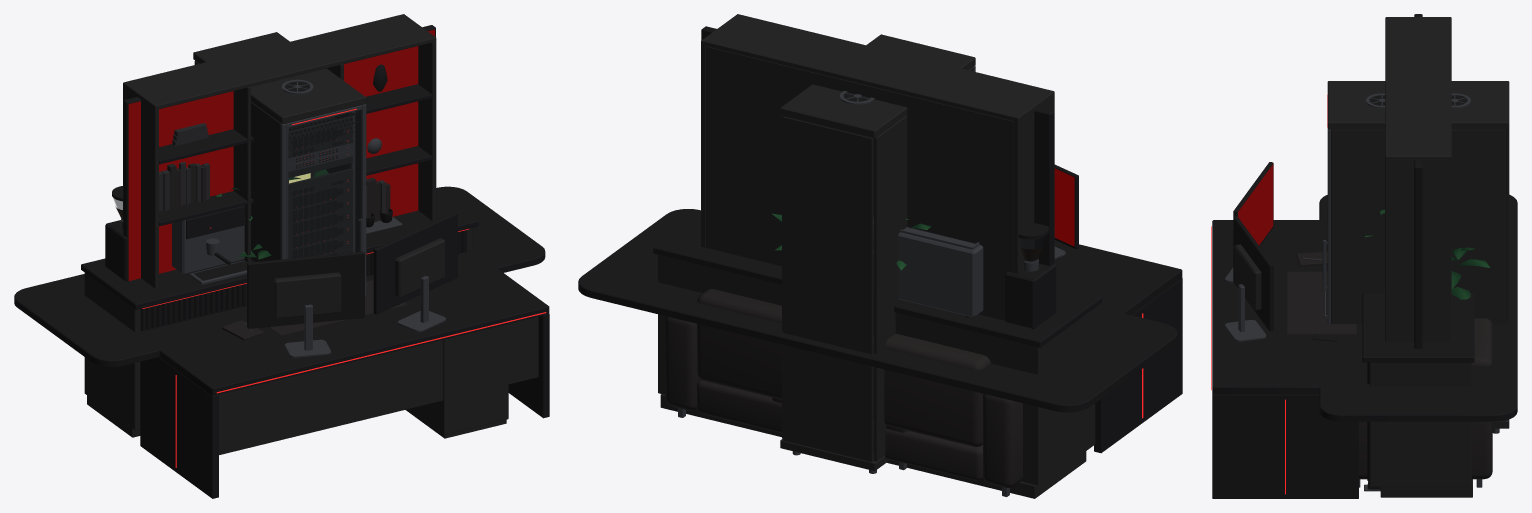
File: props.glb
3 renders of one model, left to right at view 1: azimuth 30°, elevation 25°; view 2: azimuth 150°, elevation 25°; view 3: azimuth 270°, elevation 25°, orthographic. The views are drawn at different scales.
Visible parts, largest first — view 1: exec_desk__black_gloss, exec_desk__black_matte, exec_shelf__black_matte, server_rack__black_matte, wall_screen__screen, meeting_table__black_gloss, coffee_bar__black_gloss, server_rack__glass_dark, exec_shelf__black_gloss, coffee_bar__black_matte, server_rack__black_gloss, server_rack__metal_dark (+7 smaller); view 2: exec_shelf__black_matte, server_rack__black_matte, sofa__leather, meeting_table__black_gloss, coffee_bar__black_matte, exec_desk__black_gloss, coffee_bar__black_gloss, coffee_bar__metal_dark, wall_screen__black_gloss, exec_desk__screen; view 3: exec_desk__black_gloss, server_rack__black_matte, exec_shelf__black_matte, meeting_table__black_gloss, coffee_bar__black_matte, coffee_bar__black_gloss, exec_desk__leather, sofa__leather, wall_screen__black_gloss, exec_desk__screen, server_rack__metal_dark, exec_desk__black_matte (+2 smaller).
Boxes of the visible parts, left/top/right/bottom form: exec_desk__black_gloss: left=140, top=212, right=549, bottom=498; exec_desk__black_matte: left=219, top=238, right=538, bottom=454; exec_shelf__black_matte: left=123, top=14, right=436, bottom=288; server_rack__black_matte: left=193, top=32, right=366, bottom=261; wall_screen__screen: left=128, top=29, right=434, bottom=280; meeting_table__black_gloss: left=14, top=186, right=545, bottom=366; coffee_bar__black_gloss: left=81, top=186, right=478, bottom=330; server_rack__glass_dark: left=286, top=110, right=361, bottom=258; exec_shelf__black_gloss: left=159, top=64, right=432, bottom=287; coffee_bar__black_matte: left=84, top=228, right=472, bottom=437; server_rack__black_gloss: left=285, top=81, right=358, bottom=258; server_rack__metal_dark: left=280, top=79, right=366, bottom=295; exec_shelf__black_matte: left=701, top=14, right=1054, bottom=320; server_rack__black_matte: left=780, top=34, right=975, bottom=470; sofa__leather: left=665, top=289, right=1022, bottom=487; meeting_table__black_gloss: left=578, top=209, right=1177, bottom=412; coffee_bar__black_matte: left=658, top=255, right=1095, bottom=498; exec_desk__black_gloss: left=1054, top=164, right=1182, bottom=453; coffee_bar__black_gloss: left=653, top=213, right=1102, bottom=347; coffee_bar__metal_dark: left=873, top=217, right=1038, bottom=317; wall_screen__black_gloss: left=701, top=26, right=1054, bottom=265; exec_desk__screen: left=1054, top=168, right=1074, bottom=246; exec_desk__black_gloss: left=1212, top=162, right=1358, bottom=498; server_rack__black_matte: left=1327, top=81, right=1509, bottom=428; exec_shelf__black_matte: left=1385, top=17, right=1451, bottom=341; meeting_table__black_gloss: left=1319, top=194, right=1517, bottom=421; coffee_bar__black_matte: left=1369, top=362, right=1472, bottom=497; coffee_bar__black_gloss: left=1362, top=293, right=1474, bottom=481; exec_desk__leather: left=1287, top=251, right=1356, bottom=334; sofa__leather: left=1359, top=318, right=1492, bottom=479; wall_screen__black_gloss: left=1414, top=14, right=1422, bottom=348; exec_desk__screen: left=1238, top=164, right=1273, bottom=245; server_rack__metal_dark: left=1322, top=93, right=1499, bottom=433; exec_desk__black_matte: left=1234, top=244, right=1327, bottom=314.
Size of the model in its own units: 3.2 by 2.2 by 1.85.
